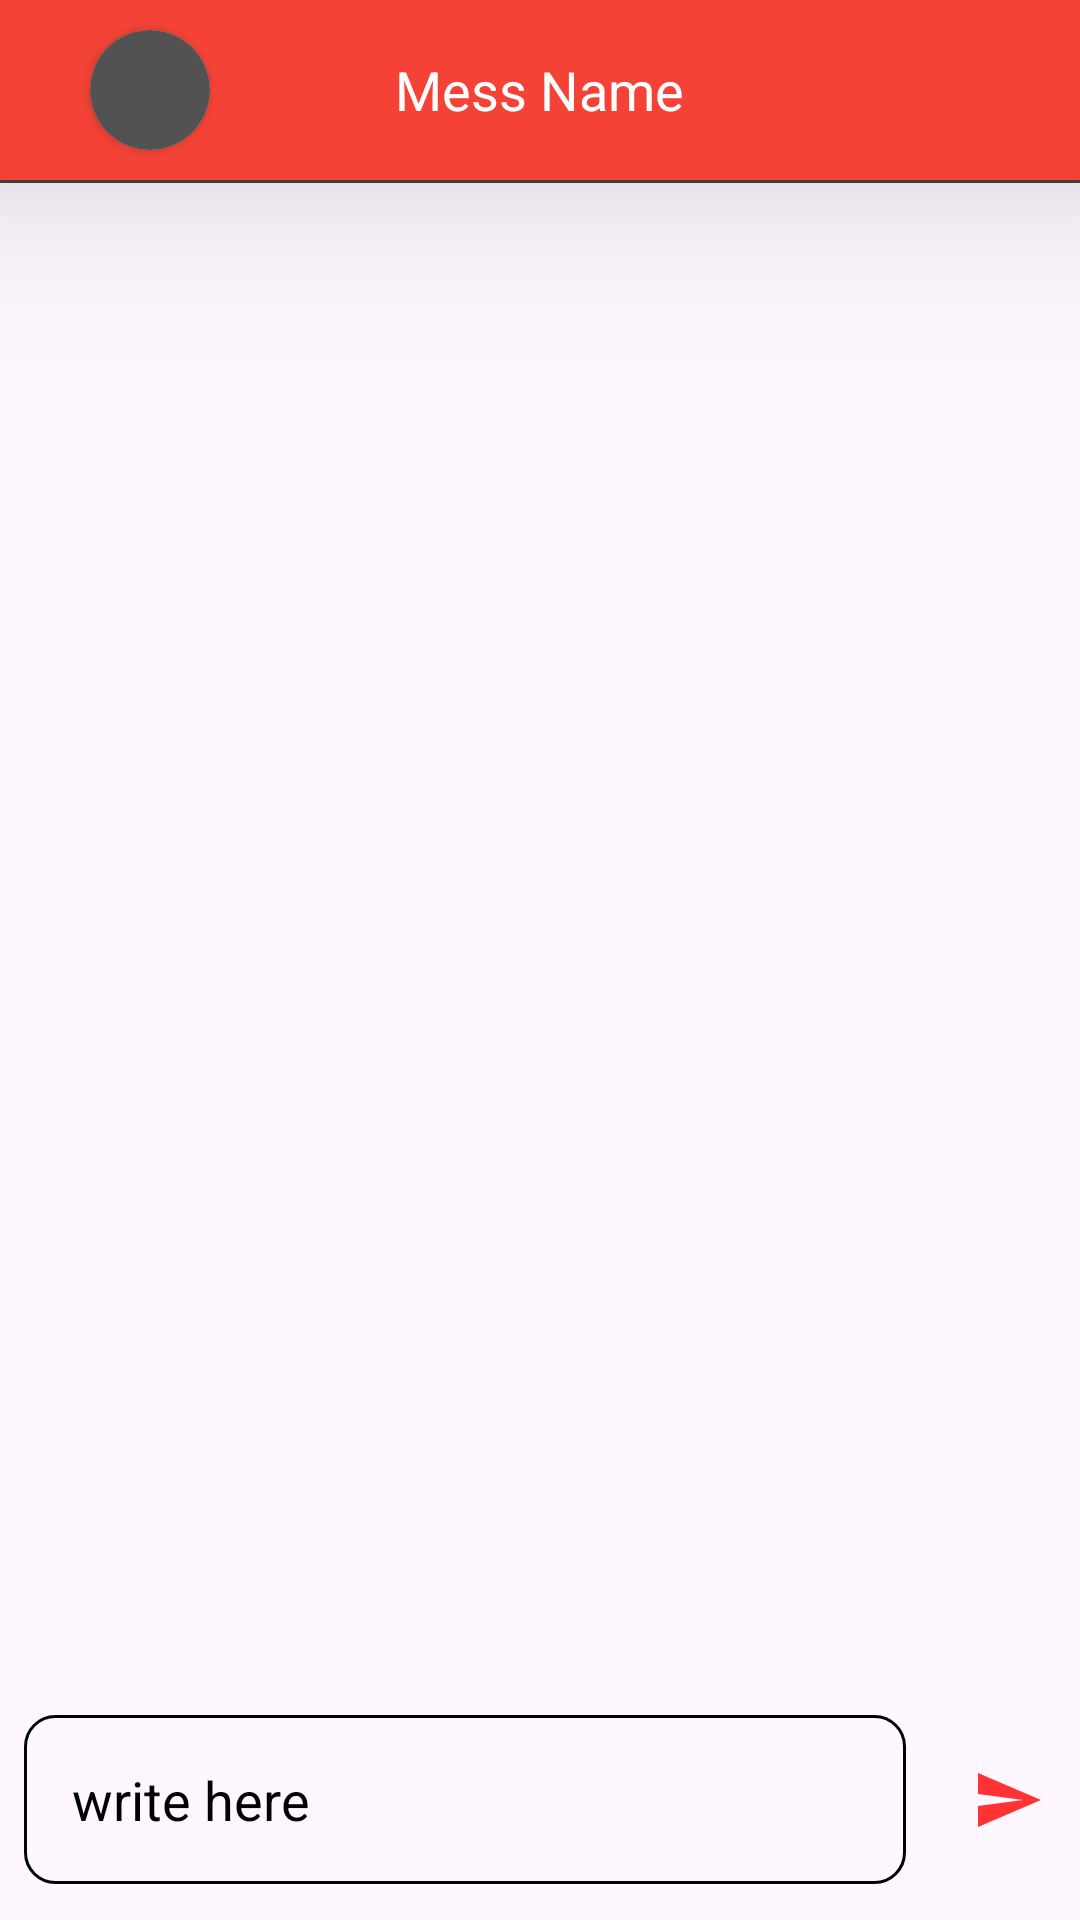

Where to tap for icons on this 1080×1920 app screen, as [x,y]:
send: [1009,1800]
